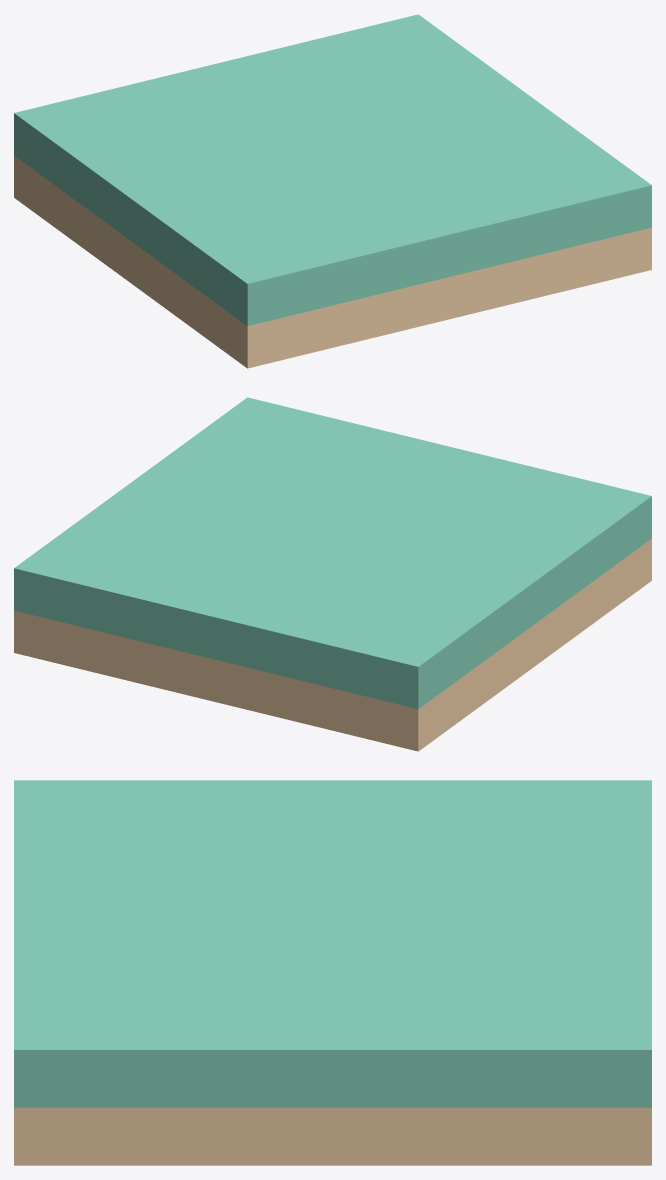
The model's file is tile.glb.
3 renders of one model, top to bottom at view 1: azimuth 30°, elevation 25°; view 2: azimuth 150°, elevation 25°; view 3: azimuth 270°, elevation 25°, orthographic. The views are drawn at different scales.
Visible parts, largest first — view 1: tile; view 2: tile; view 3: tile.
Part boxes in pixels (bbox=[...]): tile: bbox=[14, 14, 651, 368]; tile: bbox=[14, 397, 651, 751]; tile: bbox=[14, 780, 651, 1165].
Bounding box in the file's own units: 1 × 0.2 × 1.
